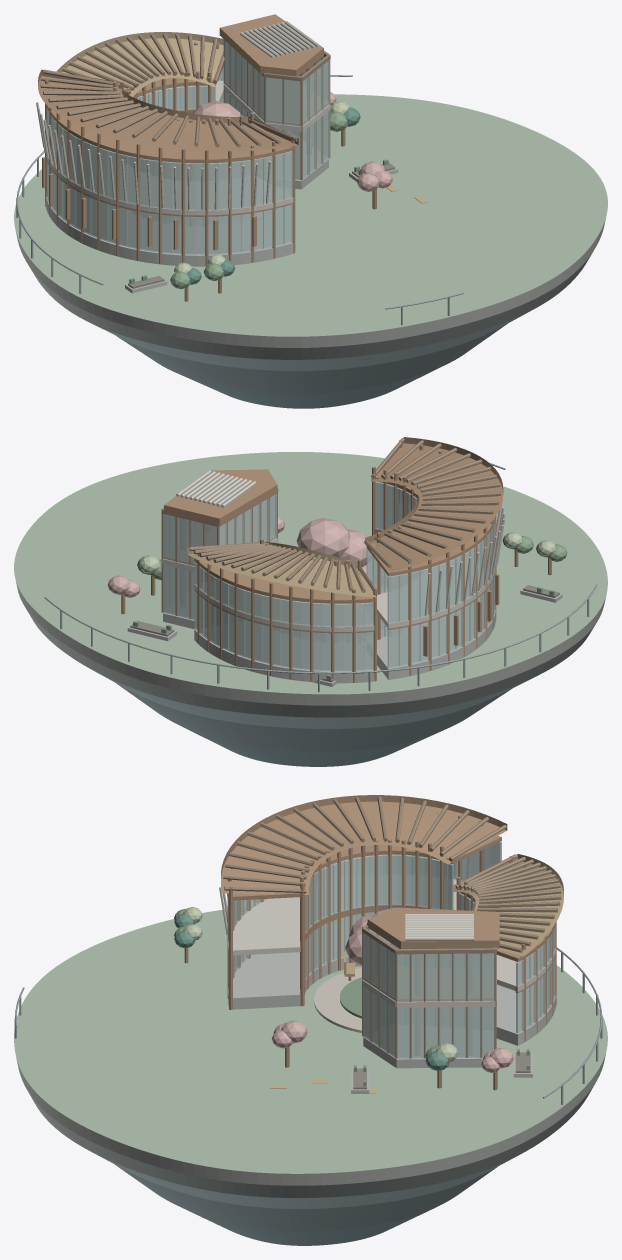
The model's file is B_R21_policy_landmark.glb.
The picture shows the model from 3 angles, top to bottom: view 1: azimuth 30°, elevation 25°; view 2: azimuth 150°, elevation 25°; view 3: azimuth 270°, elevation 25°; orthographic projection. The views are drawn at different scales.
Visible parts, largest first — view 1: grass, careGlass, careRoof, copperdark, stone2, careLinen, cliff2, cliff3, warmwood, cliff, cliff_dark, flower (+3 smaller); view 2: grass, careGlass, careRoof, stone2, copperdark, cliff2, cliff3, careLinen, cliff, warmwood, flower, cliff_dark (+4 smaller); view 3: grass, careRoof, careGlass, copperdark, stone2, careLinen, cliff3, cliff2, cliff, warmwood, cliff_dark, flower (+5 smaller).
Boxes of the visible parts, x1,y1,x2,y2 form: grass: (14, 94, 607, 336); careGlass: (46, 40, 329, 254); careRoof: (38, 14, 328, 266); copperdark: (40, 33, 330, 180); stone2: (15, 159, 605, 347); careLinen: (36, 21, 330, 215); cliff2: (116, 324, 506, 393); cliff3: (30, 251, 593, 359); warmwood: (56, 32, 223, 96); cliff: (95, 311, 529, 371); cliff_dark: (180, 367, 440, 408); flower: (192, 92, 392, 191); grass: (14, 452, 607, 694); careGlass: (163, 481, 495, 671); careRoof: (164, 437, 503, 682); stone2: (16, 582, 605, 705); copperdark: (161, 438, 500, 619); cliff2: (116, 683, 511, 751); cliff3: (26, 609, 595, 717); careLinen: (162, 470, 505, 631); cliff: (96, 672, 538, 728); warmwood: (187, 541, 376, 597); flower: (107, 516, 366, 597); cliff_dark: (185, 728, 443, 766); grass: (14, 909, 607, 1173); careRoof: (221, 795, 556, 1041); careGlass: (228, 841, 555, 1058); copperdark: (223, 796, 561, 1058); stone2: (16, 952, 606, 1185); careLinen: (219, 878, 555, 1007); cliff3: (29, 1083, 595, 1197); cliff2: (114, 1164, 496, 1231); cliff: (96, 1154, 512, 1208); warmwood: (344, 854, 563, 976); cliff_dark: (184, 1208, 433, 1245); flower: (272, 908, 513, 1072).
Size of the model in its own units: 29.69 by 15.15 by 27.69.
